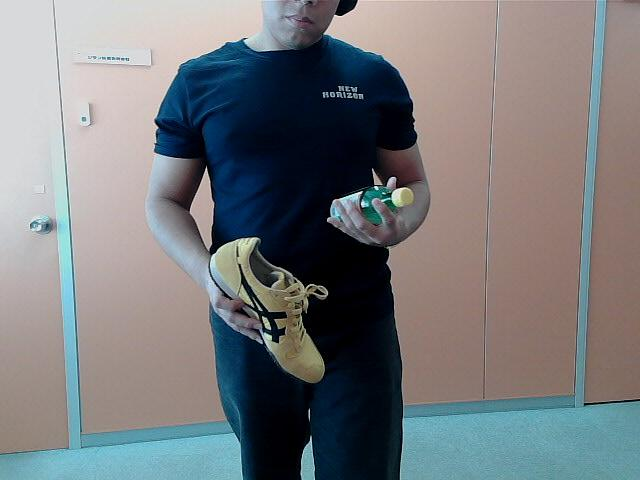Lemon_sapporo: (328, 180, 414, 232)
Shoes: (205, 236, 327, 384)
